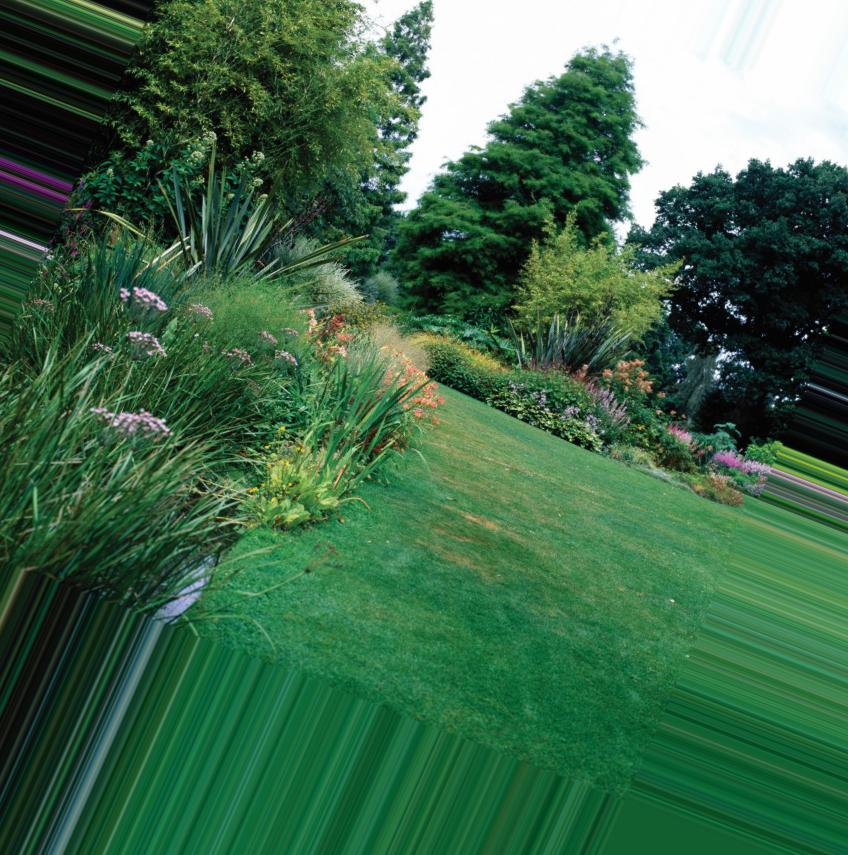patch: (413, 561, 516, 638), (437, 488, 545, 541), (446, 427, 513, 479)
